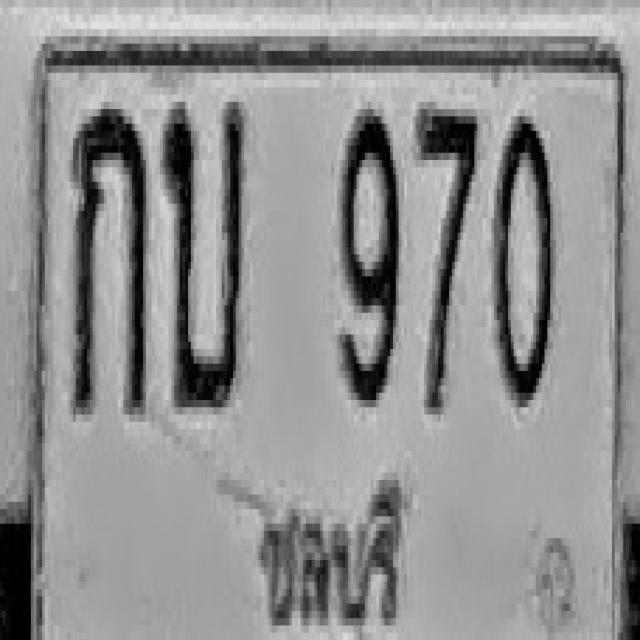0: (492, 109, 554, 407)
10GorGai: (72, 102, 148, 414)
35BorBaiMai: (163, 98, 244, 411)
7: (416, 102, 478, 414)
9: (339, 105, 398, 404)
Chonburi: (250, 450, 408, 640)
